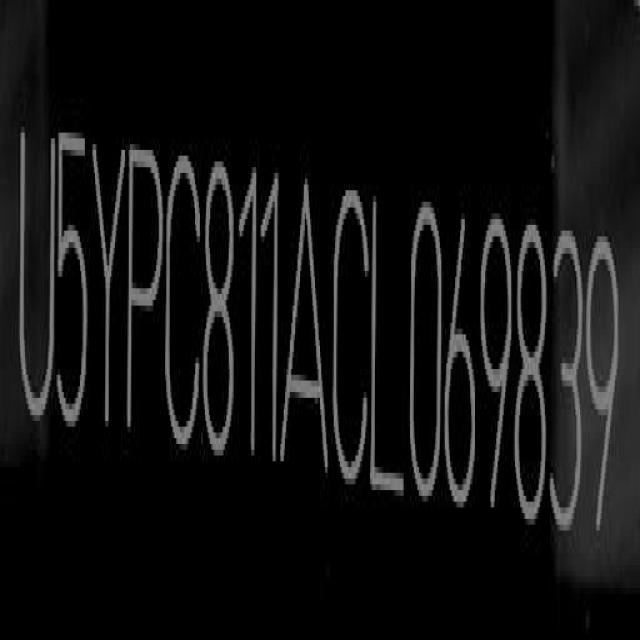0: (408, 202, 441, 499)
1: (260, 152, 282, 470), (239, 165, 261, 471)
3: (551, 232, 583, 545)
5: (55, 130, 91, 448)
6: (445, 198, 477, 516)
8: (512, 209, 548, 528), (204, 152, 236, 476)
9: (586, 214, 620, 543), (480, 217, 512, 526)
A: (276, 172, 331, 488)
C: (162, 130, 202, 459), (331, 186, 369, 488)
L: (366, 188, 406, 500)
P: (124, 128, 164, 453)
U: (15, 126, 56, 433)
Y: (92, 124, 126, 438)
